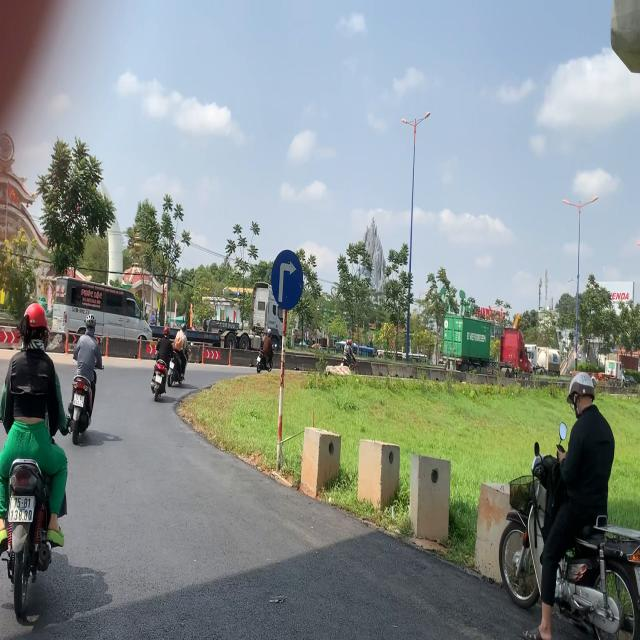Re phai: (271, 248, 304, 311)
